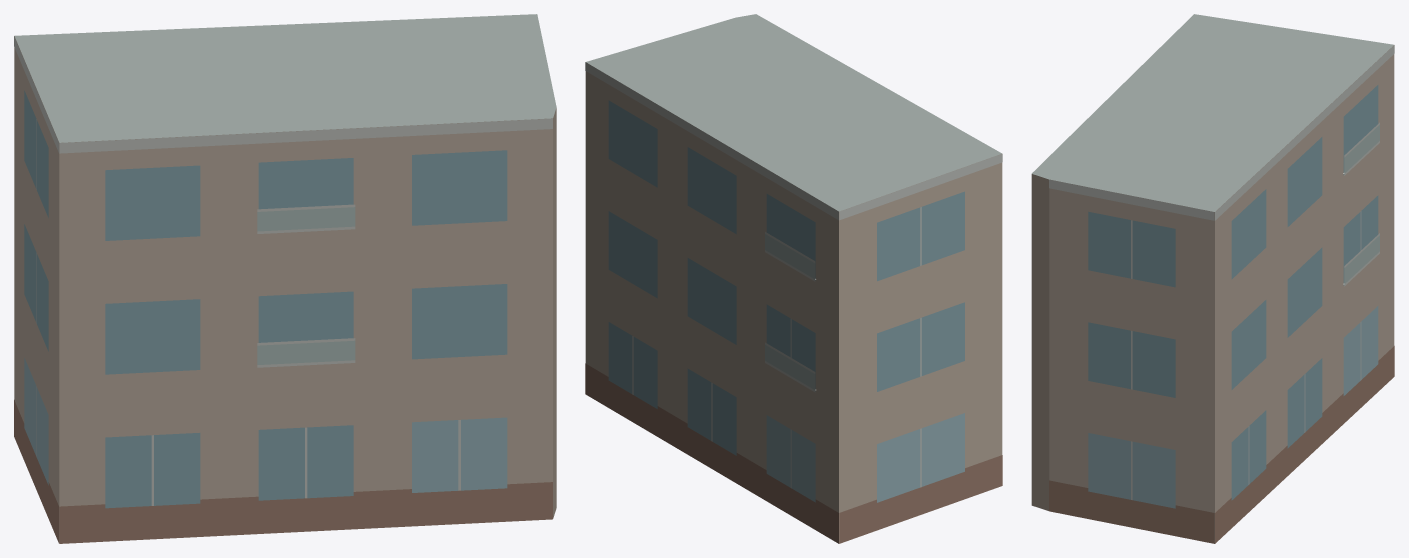
File: survey-upis-32506905.glb
The picture shows the model from 3 angles, left to right: view 1: azimuth 30°, elevation 25°; view 2: azimuth 150°, elevation 25°; view 3: azimuth 270°, elevation 25°; orthographic projection. The views are drawn at different scales.
Visible parts, largest first — view 1: survey-upis-32506905.tmp; view 2: survey-upis-32506905.tmp; view 3: survey-upis-32506905.tmp.
Part boxes in pixels (bbox=[...]): survey-upis-32506905.tmp: bbox=[14, 14, 556, 543]; survey-upis-32506905.tmp: bbox=[585, 14, 1002, 543]; survey-upis-32506905.tmp: bbox=[1031, 14, 1394, 543].
Size of the model in its own units: 11.72 by 9.15 by 9.08.
